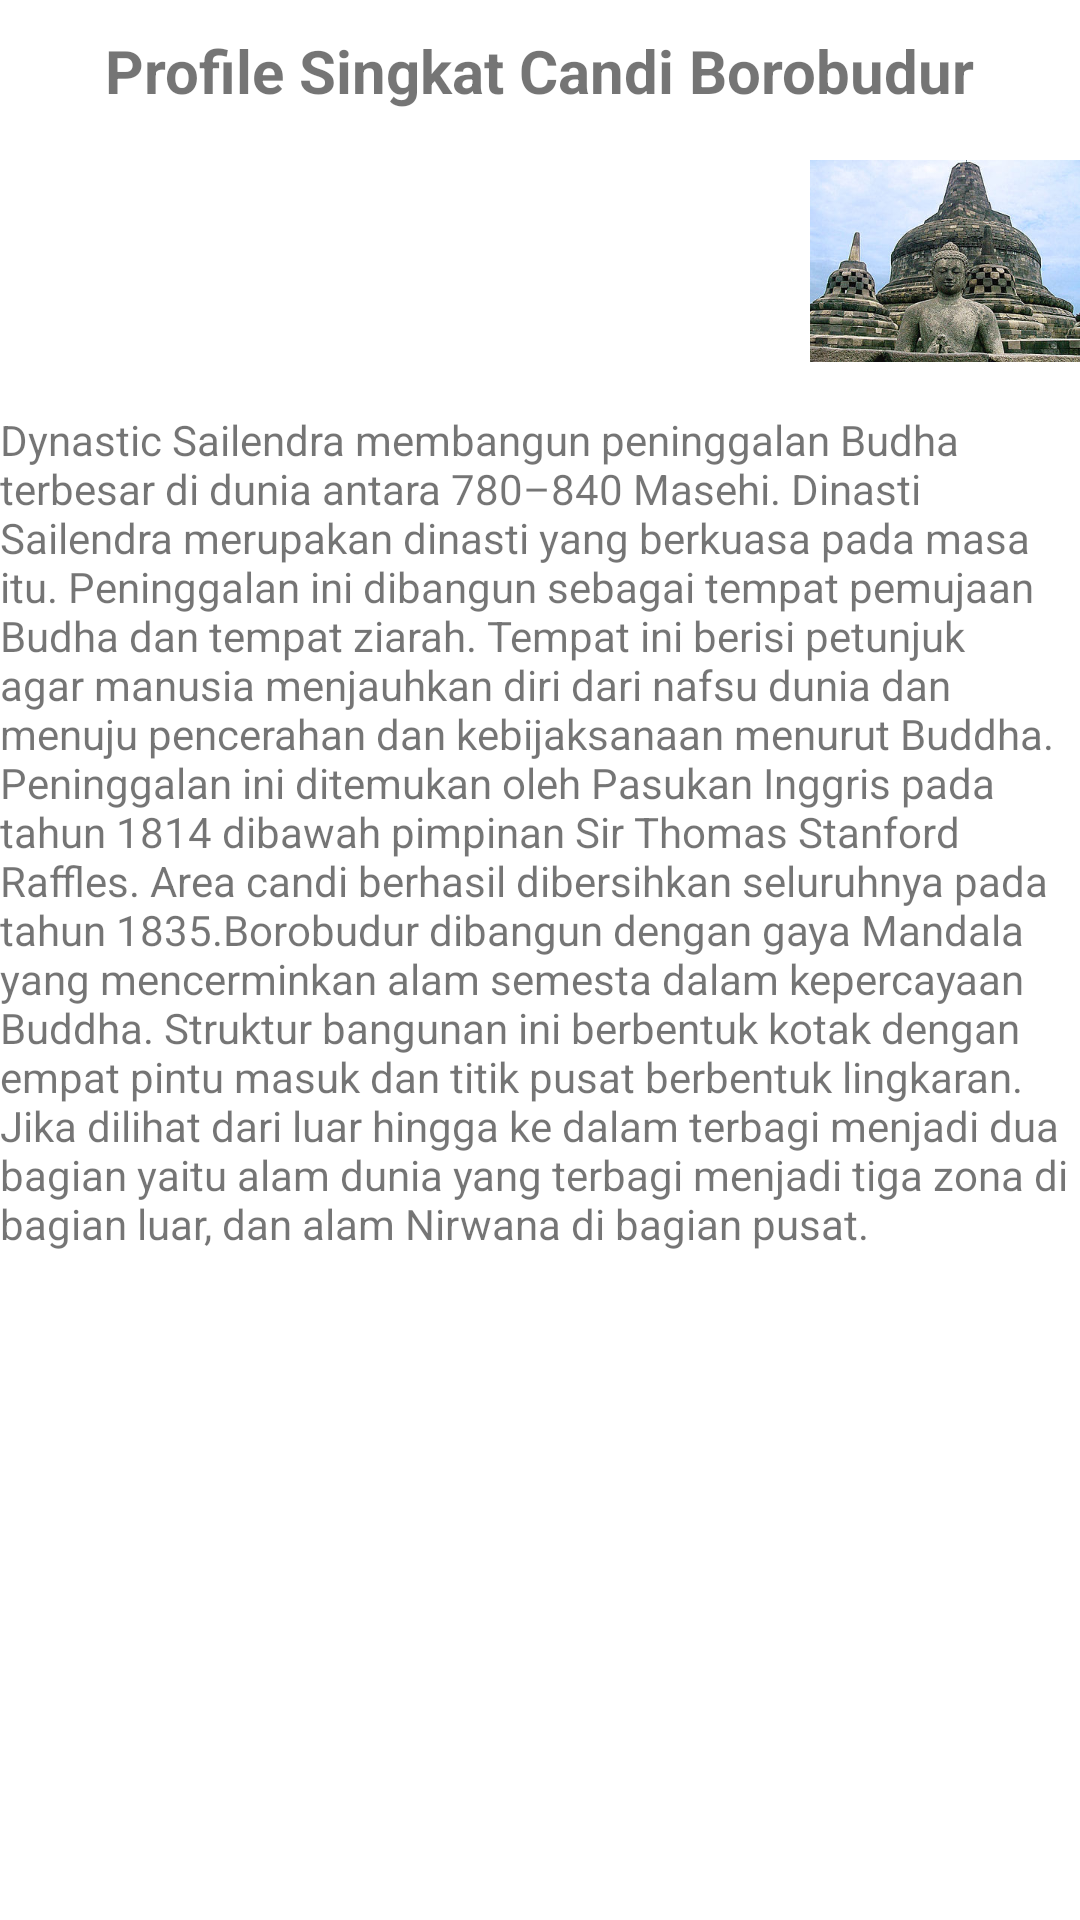

Screen size 1080*1920. Icon name, then its box in pixels as (x1=x1, y1=y1, x2=x2, y2=y2):
candii: (x1=810, y1=160, x2=1080, y2=362)
